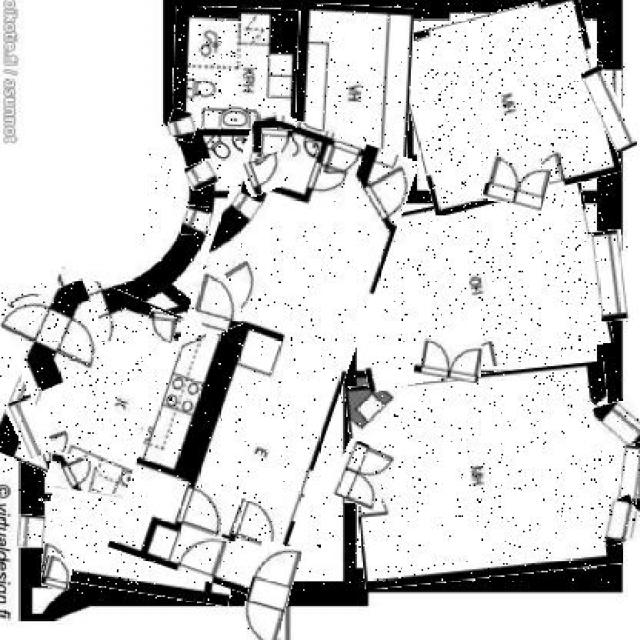door: (3, 284, 109, 388), (242, 541, 295, 640), (332, 443, 392, 508), (188, 266, 240, 334), (485, 157, 549, 209), (225, 500, 286, 552), (415, 338, 483, 382), (48, 452, 97, 491), (243, 154, 289, 194), (144, 311, 178, 343), (42, 557, 72, 591), (262, 129, 292, 162)
window: (589, 65, 628, 152), (592, 229, 628, 322), (592, 398, 640, 448), (10, 396, 48, 458), (595, 497, 640, 543), (612, 445, 640, 506), (168, 109, 198, 142), (19, 515, 46, 548), (186, 162, 217, 189), (182, 207, 209, 236)
zone: (143, 115, 383, 596), (350, 368, 618, 583), (0, 283, 242, 512), (343, 188, 608, 382), (403, 2, 612, 206), (292, 4, 412, 196), (43, 492, 239, 600), (172, 6, 298, 129)
